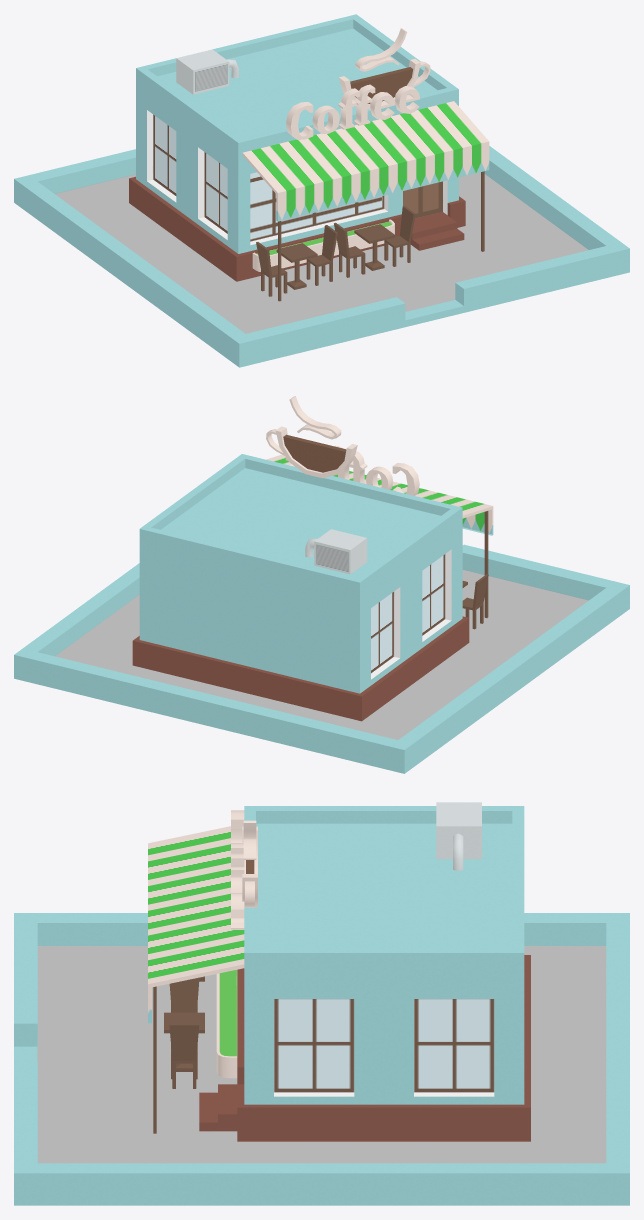
The model's file is CoffeeShop.glb.
3 views of the same model, one above another, from view 1: azimuth 30°, elevation 25°; view 2: azimuth 150°, elevation 25°; view 3: azimuth 270°, elevation 25° (orthographic). The views are drawn at different scales.
Parts seen in each view (by area): view 1: coffee_shop; view 2: coffee_shop; view 3: coffee_shop.
Part boxes in pixels (box(x1,y1,x2,y2)): coffee_shop: box(14, 14, 629, 367); coffee_shop: box(14, 396, 629, 773); coffee_shop: box(14, 802, 629, 1205).
Bounding box in the file's own units: 6 × 3.13 × 6.
Materials: 1 (1 with a texture image).
